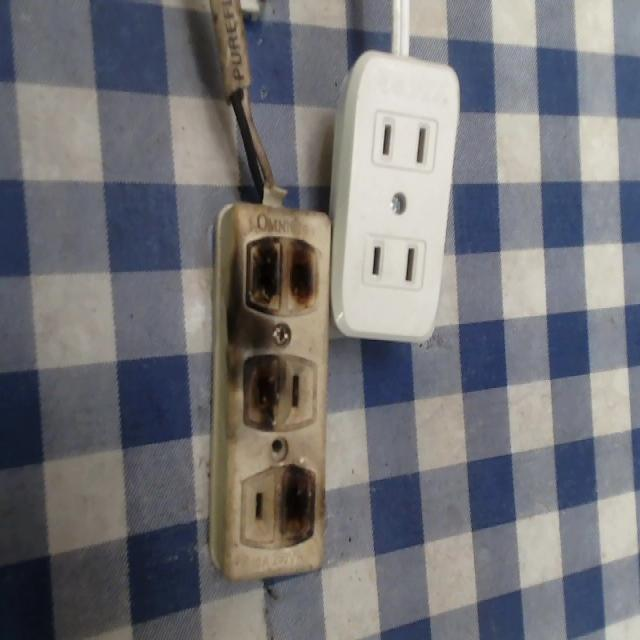-: (240, 228, 320, 328), (234, 351, 291, 429), (274, 464, 317, 549)
